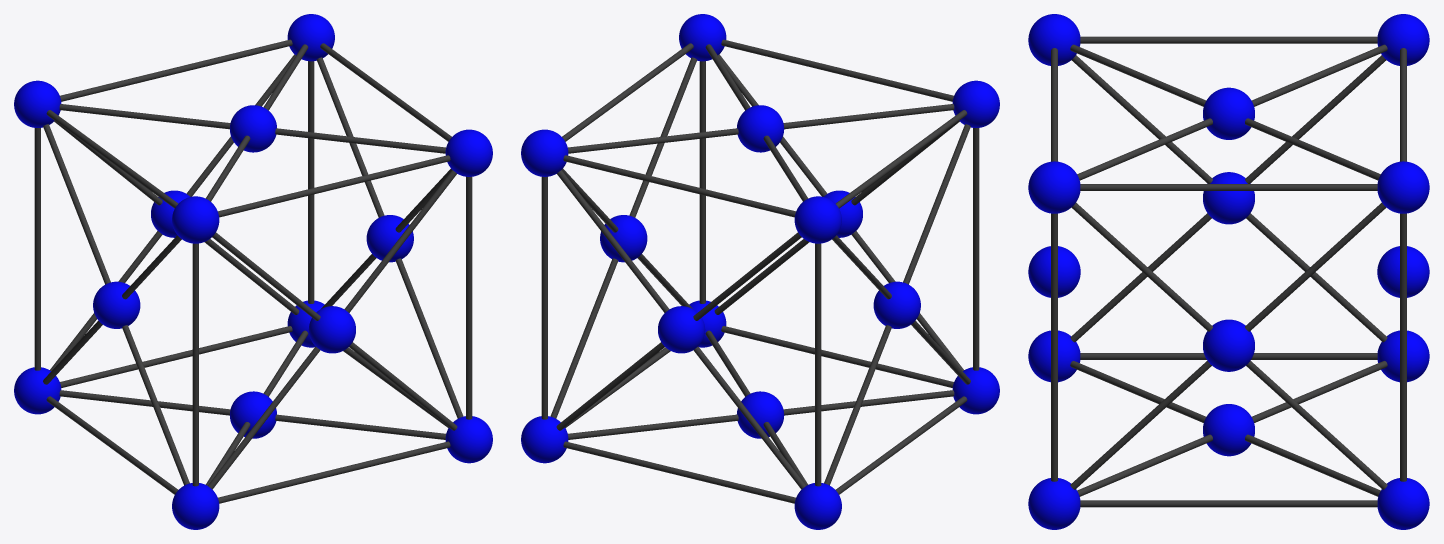
Rendered from fcc-lattice.glb.
The picture shows the model from 3 angles, left to right: view 1: azimuth 30°, elevation 25°; view 2: azimuth 150°, elevation 25°; view 3: azimuth 270°, elevation 25°; orthographic projection. The views are drawn at different scales.
Parts seen in each view (by area): view 1: Mirror1[6] - Part, Surface-Sweep1 - Part, CirPattern1[15] - Part, Mirror1[8] - Part, Surface-Sweep4 - Part, Surface-Sweep3 - Part, CirPattern1[14] - Part, CirPattern1[12] - Part, Mirror1[3] - Part, LPattern2[2] - Part, Mirror1[4] - Part, CirPattern1[9] - Part (+20 smaller); view 2: Mirror1[6] - Part, Surface-Sweep1 - Part, CirPattern1[10] - Part, Mirror1[7] - Part, Surface-Sweep5 - Part, Surface-Sweep2 - Part, CirPattern1[11] - Part, CirPattern1[13] - Part, Mirror1[1] - Part, Surface-Revolve1 - Part, Mirror1[2] - Part, CirPattern1[7] - Part (+22 smaller); view 3: Mirror1[6] - Part, Surface-Sweep1 - Part, CirPattern1[11] - Part, CirPattern1[14] - Part, Surface-Sweep4 - Part, Surface-Sweep5 - Part, Mirror1[7] - Part, Mirror1[8] - Part, Mirror1[2] - Part, Mirror1[4] - Part, CirPattern1[8] - Part, LPattern2[1] - Part (+16 smaller).
Boxes of the visible parts, x1,y1,x2,y2 form: Mirror1[6] - Part: (46,39,451,217); Surface-Sweep1 - Part: (46,326,450,503); CirPattern1[15] - Part: (208,170,456,489); Mirror1[8] - Part: (59,104,445,153); Surface-Sweep4 - Part: (43,124,189,485); Surface-Sweep3 - Part: (59,390,445,439); CirPattern1[14] - Part: (316,57,463,418); CirPattern1[12] - Part: (212,232,457,430); Mirror1[3] - Part: (172,196,219,243); LPattern2[2] - Part: (172,483,219,529); Mirror1[4] - Part: (445,129,492,176); CirPattern1[9] - Part: (308,306,355,353); Mirror1[6] - Part: (562,39,967,217); Surface-Sweep1 - Part: (563,326,967,503); CirPattern1[10] - Part: (557,170,805,489); Mirror1[7] - Part: (568,104,954,153); Surface-Sweep5 - Part: (824,124,970,485); Surface-Sweep2 - Part: (568,390,954,439); CirPattern1[11] - Part: (550,57,697,418); CirPattern1[13] - Part: (556,232,801,430); Mirror1[1] - Part: (794,196,841,243); Surface-Revolve1 - Part: (794,483,841,529); Mirror1[2] - Part: (521,129,568,176); CirPattern1[7] - Part: (658,306,705,353); Mirror1[6] - Part: (1051,36,1406,190); Surface-Sweep1 - Part: (1080,353,1377,507); CirPattern1[11] - Part: (1071,202,1387,489); CirPattern1[14] - Part: (1070,202,1386,489); Surface-Sweep4 - Part: (1070,55,1386,342); Surface-Sweep5 - Part: (1071,55,1387,342); Mirror1[7] - Part: (1070,44,1380,180); Mirror1[8] - Part: (1077,44,1387,180); Mirror1[2] - Part: (1377,161,1429,213); Mirror1[4] - Part: (1028,161,1080,213); CirPattern1[8] - Part: (1203,319,1254,371); LPattern2[1] - Part: (1377,478,1429,529).
Size of the model in its own units: 0.0292 by 0.0292 by 0.0292.
